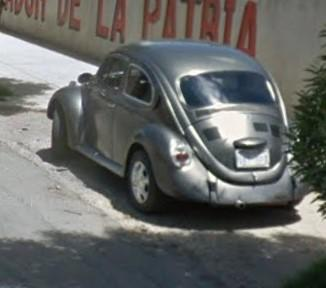car: (43, 42, 306, 208)
